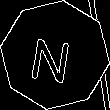N_N: (31, 27, 79, 83)
